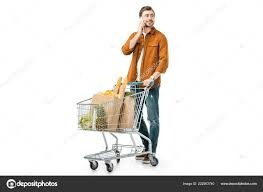with_basket: (78, 77, 161, 169)
without_mask: (139, 5, 157, 29)
